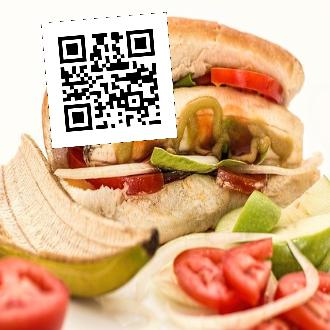qr_code: (41, 12, 177, 148)
